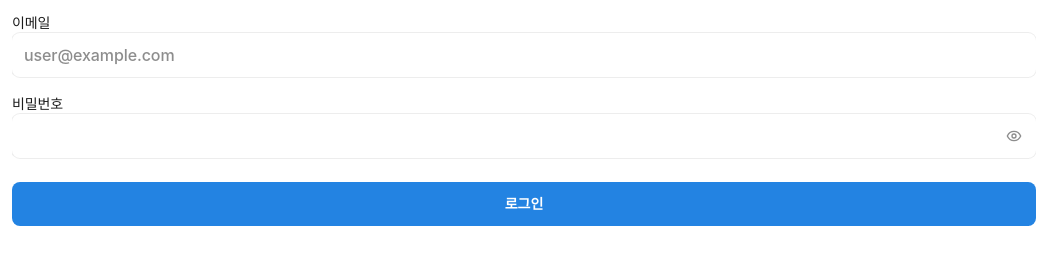
Test case: LoginForm › 로그인 실패 → 비밀번호 필드 아래 enumeration-safe 인라인 에러 (DESIGN §6.1)
This screenshot has width=1048, height=267.
Type "test@example.com" into the field labelled "이메일" at (524, 55), box top-left (12, 33), bottom-right (1036, 77)
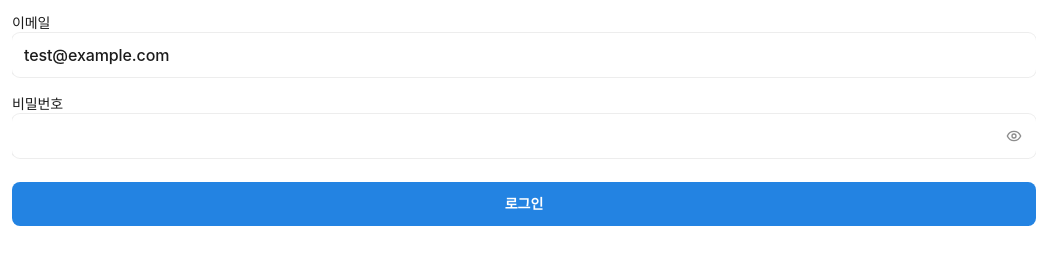
Type "wrong-password" into the password field labelled "비밀번호" at (524, 136), box top-left (12, 114), bottom-right (1036, 158)
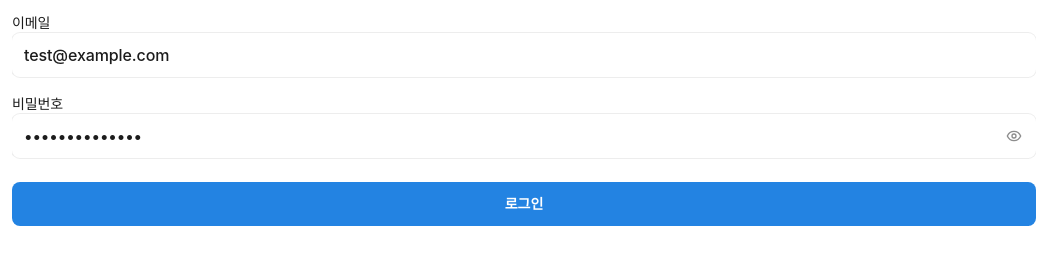
Click the button "로그인" at (524, 204), box top-left (12, 182), bottom-right (1036, 226)
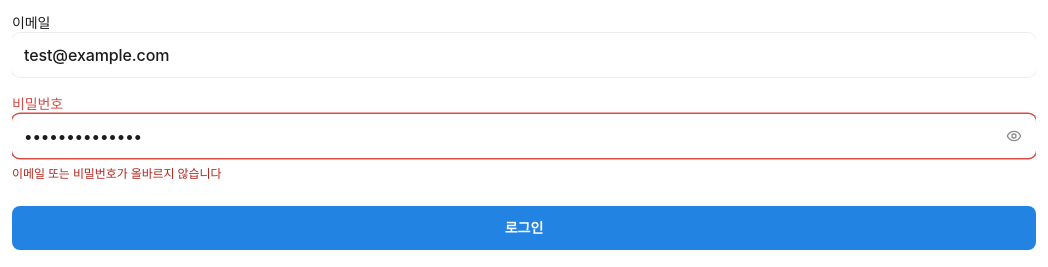
Check: the text "이메일 또는 비밀번호가 올바르지 않습니다" is shown, box top-left (12, 166), bottom-right (221, 181)
